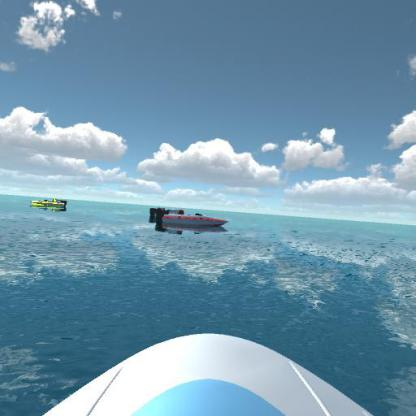usv2: (30, 193, 74, 214)
usv3: (155, 209, 232, 234), (144, 204, 188, 219)
